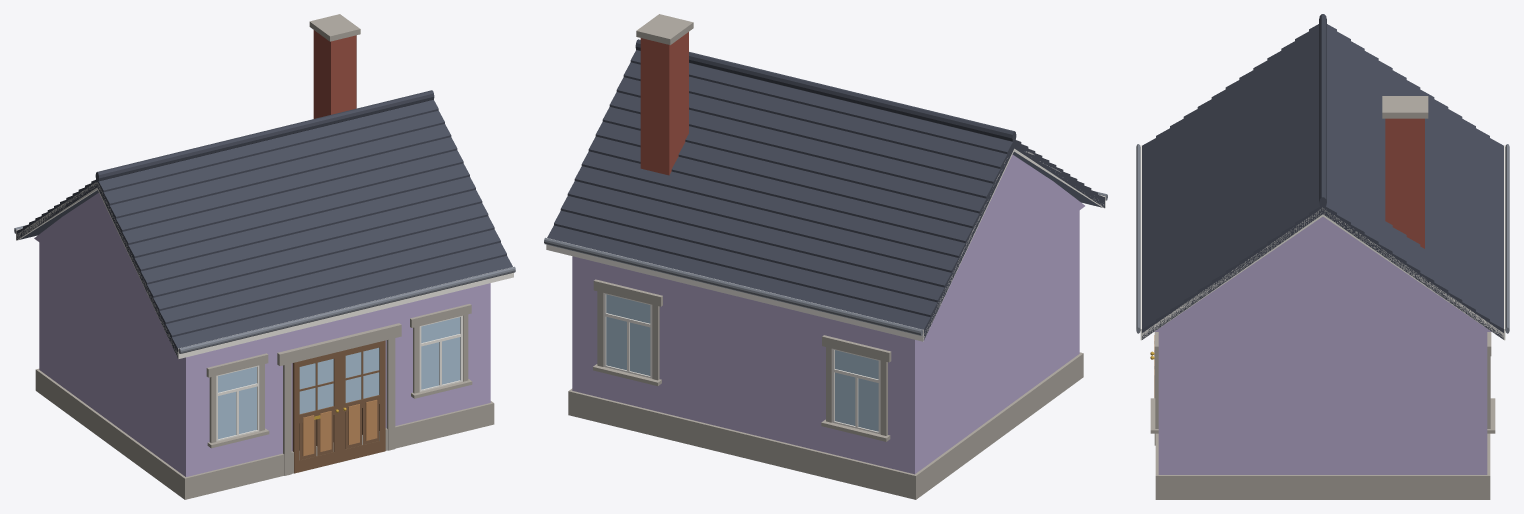
File: cottage.glb
3 views of the same model, side by side, from view 1: azimuth 30°, elevation 25°; view 2: azimuth 150°, elevation 25°; view 3: azimuth 270°, elevation 25° (orthographic). The views are drawn at different scales.
Parts seen in each view (by area): view 1: cottage; view 2: cottage; view 3: cottage.
Boxes of the visible parts, box(x1,y1,x2,y2) form: cottage: box(14, 14, 515, 499); cottage: box(544, 14, 1107, 499); cottage: box(1136, 14, 1509, 499).
Bounding box in the file's own units: 6.6 × 6.2 × 5.68.
